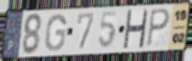5: (97, 11, 119, 50)
7: (76, 12, 95, 51)
8: (21, 12, 43, 56)
G: (44, 13, 68, 52)
H: (122, 9, 149, 49)
P: (146, 8, 171, 48)
